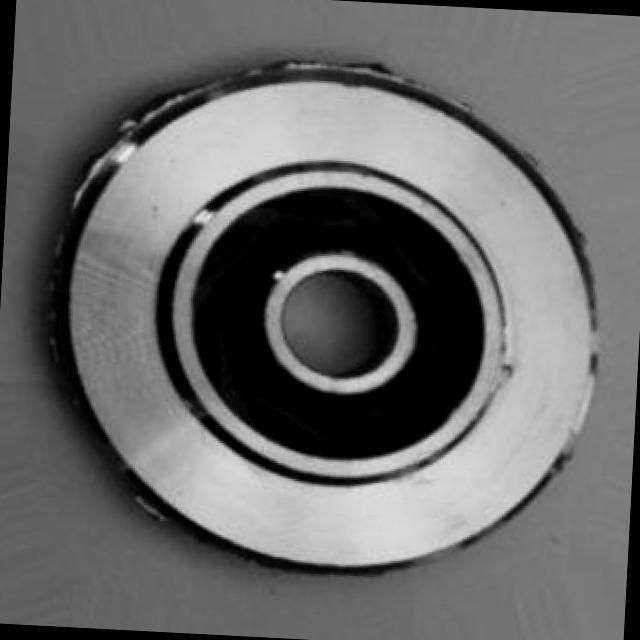Defect: (107, 86, 178, 131)
